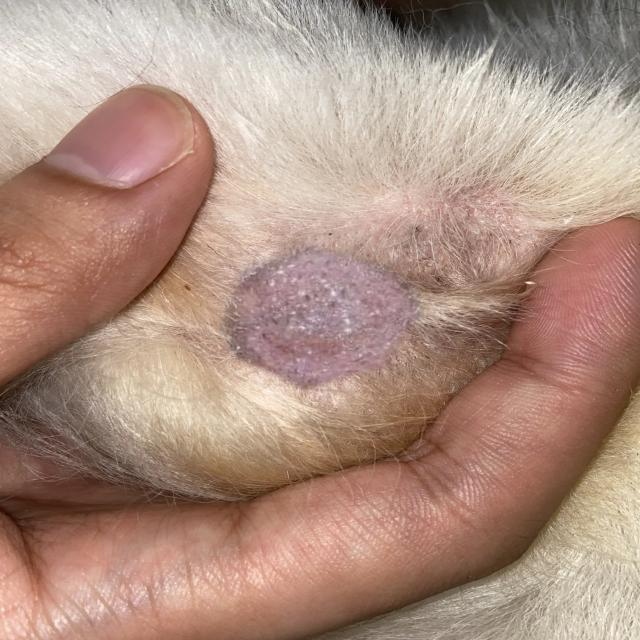ringworm: (222, 234, 430, 392)
